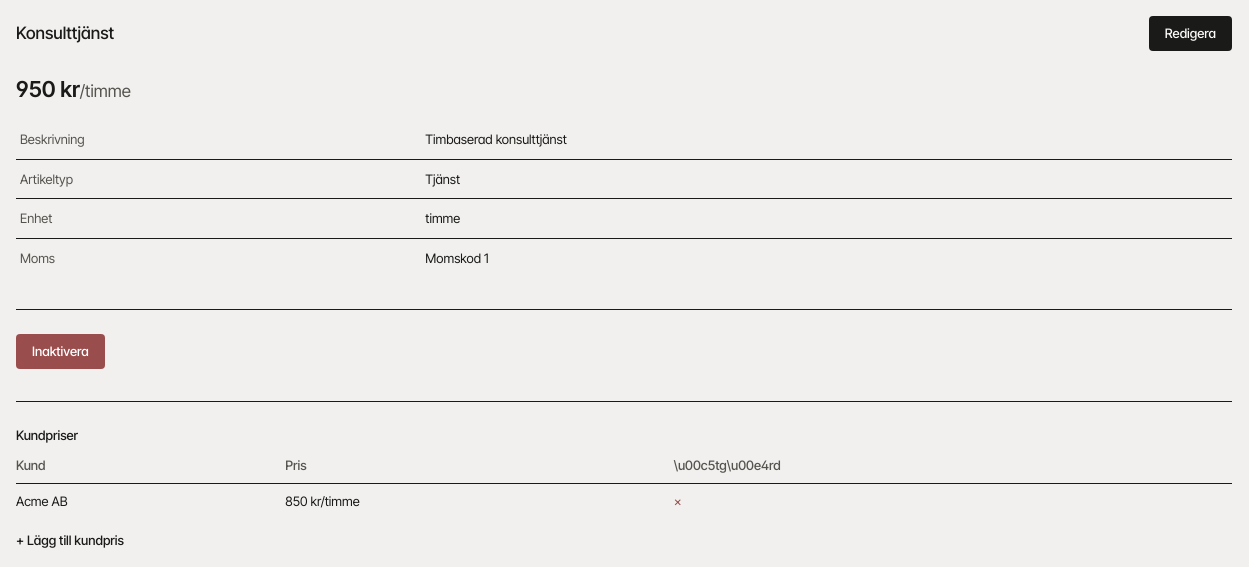
ProductDetail › shows deactivation confirm step on button click
The width and height of the screenshot is (1249, 567).
Check: the heading "Konsulttjänst" is shown, box top-left (16, 20), bottom-right (114, 46)
Click the button "Inaktivera" at (60, 352), box top-left (16, 334), bottom-right (105, 369)
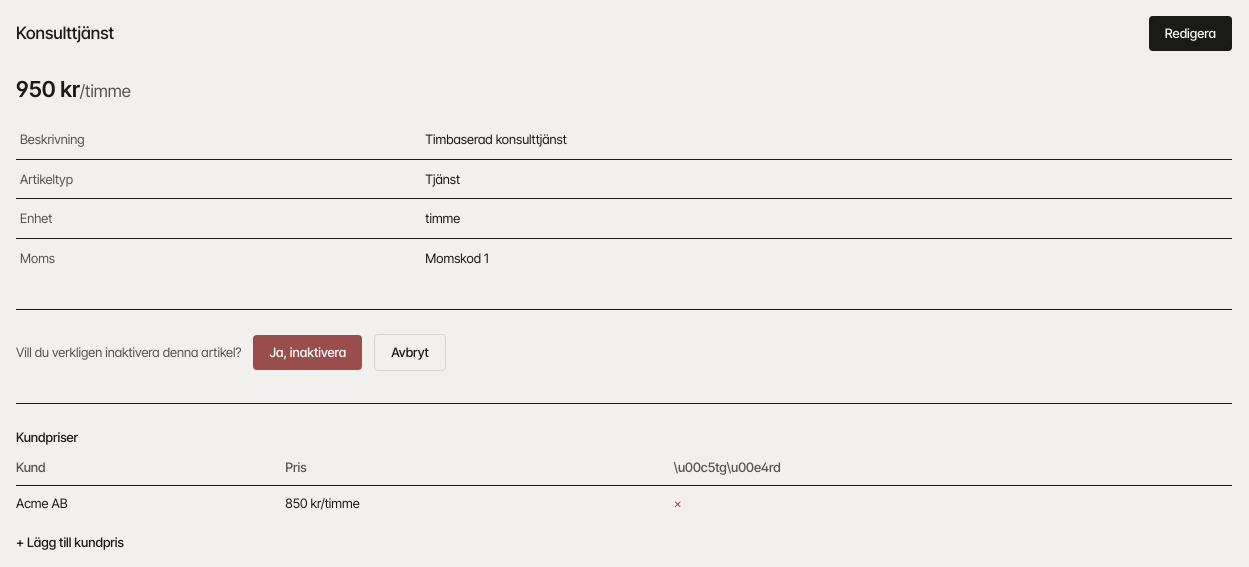
Check: the text "Vill du verkligen inaktivera denna artikel?" is shown, box top-left (16, 343), bottom-right (241, 362)
Check: the button "Ja, inaktivera" is shown, box top-left (253, 335), bottom-right (362, 370)
